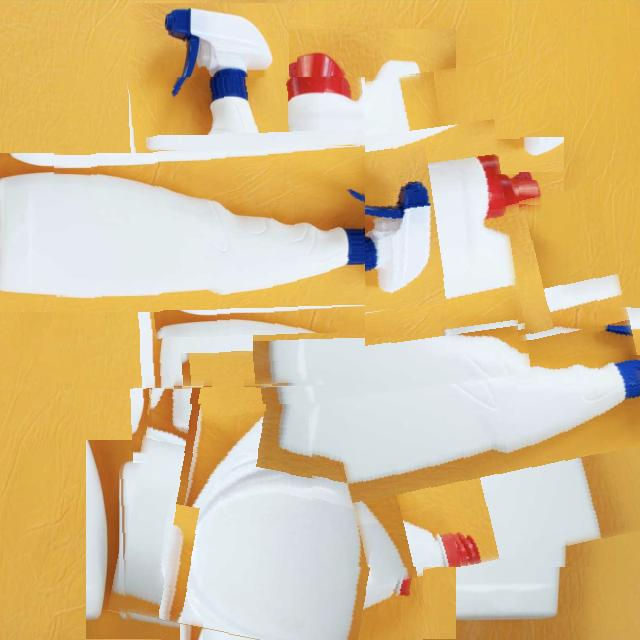recyclable: (308, 198, 640, 567), (190, 73, 520, 404), (54, 77, 365, 389), (117, 384, 423, 640)
